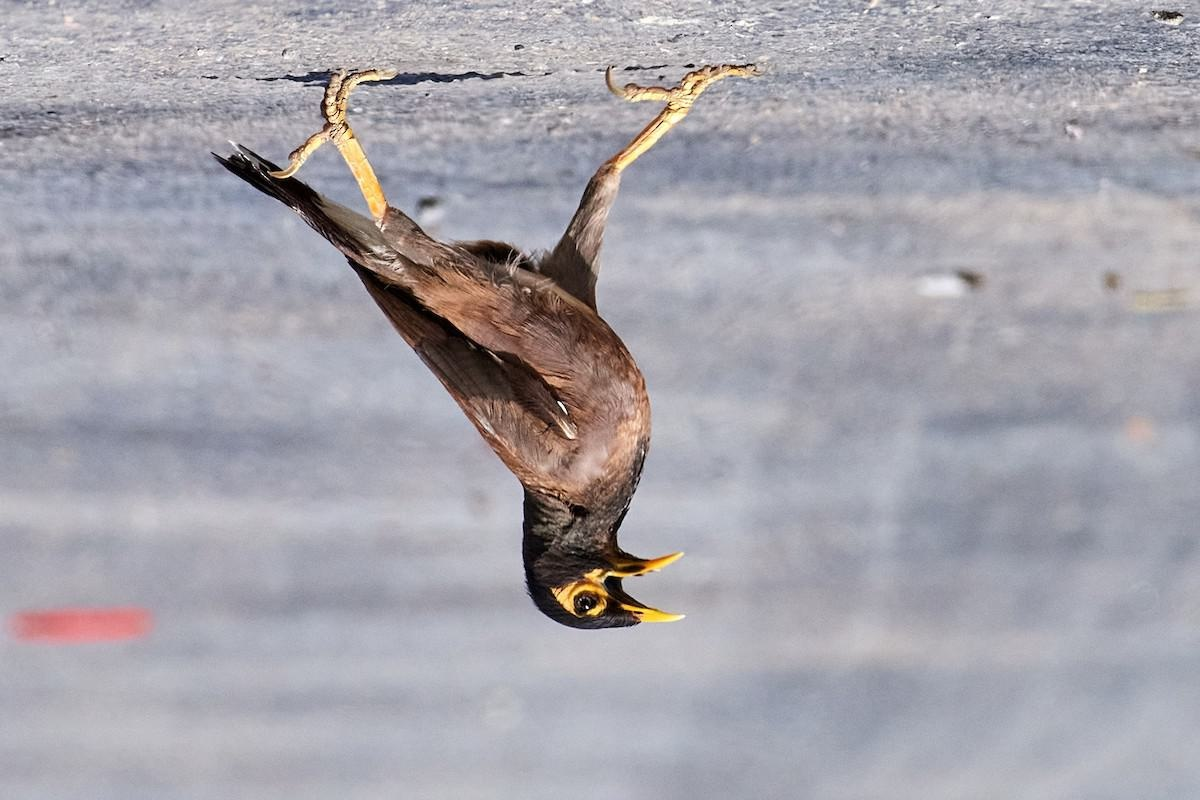myna: (250, 66, 718, 693)
